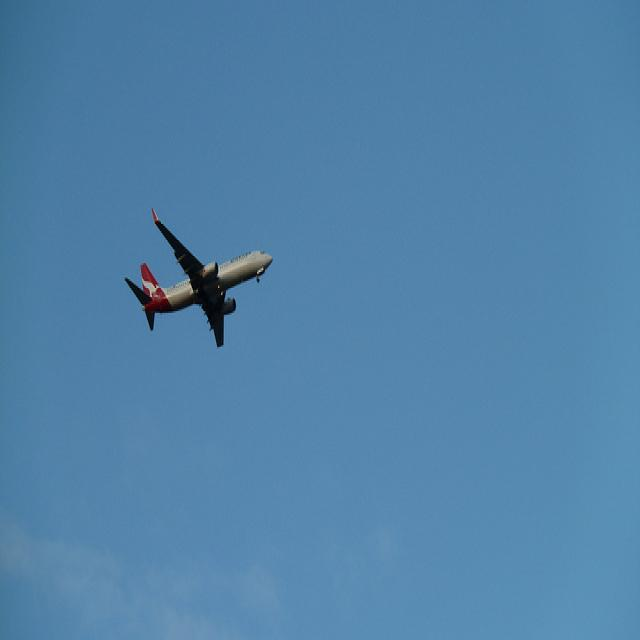airplane: (124, 205, 274, 349)
